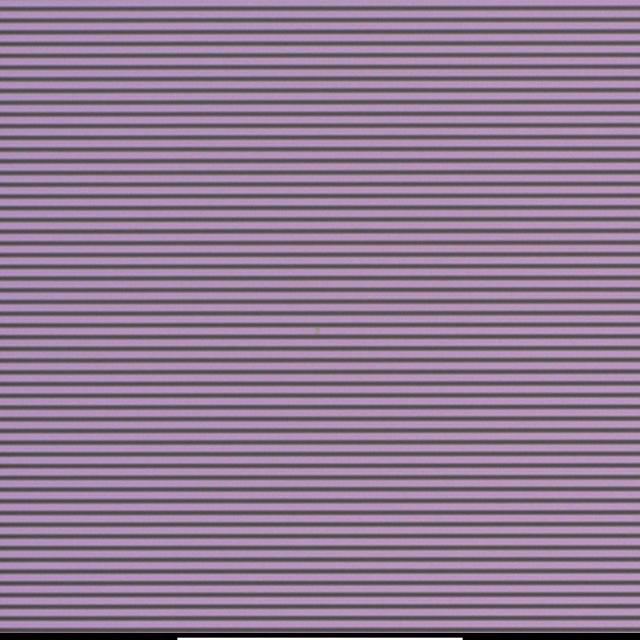nonvisual: (312, 320, 320, 333)
